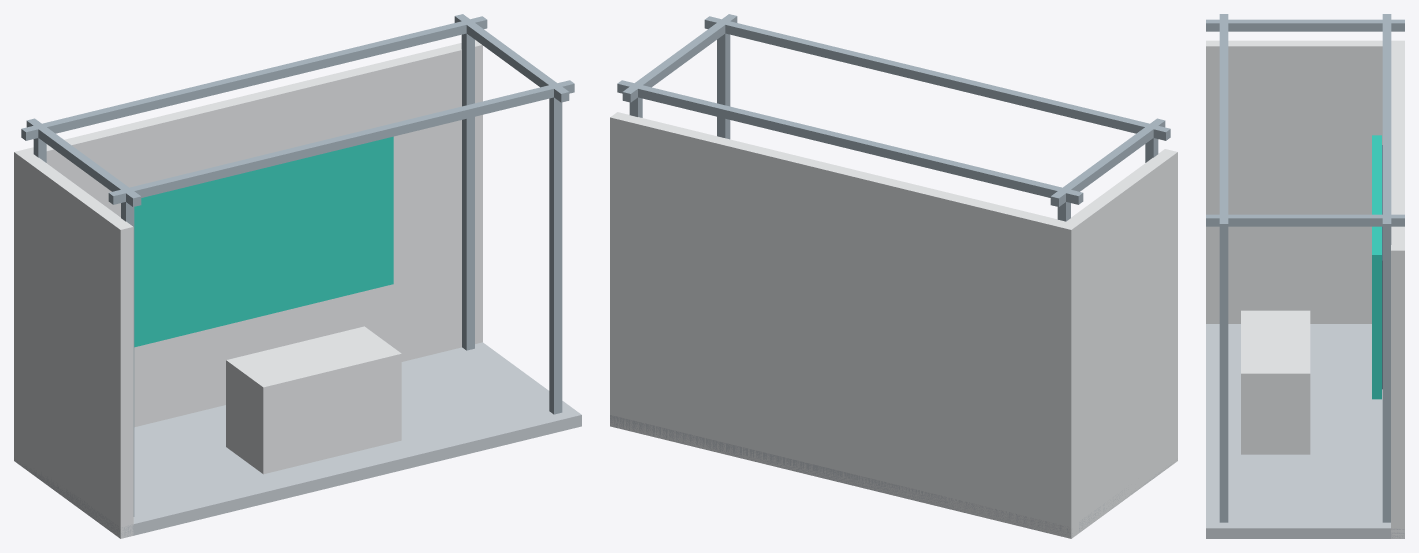
3 renders of one model, left to right at view 1: azimuth 30°, elevation 25°; view 2: azimuth 150°, elevation 25°; view 3: azimuth 270°, elevation 25°, orthographic. The views are drawn at different scales.
Visible parts, largest first — view 1: Exhibition Booth Concept; view 2: Exhibition Booth Concept; view 3: Exhibition Booth Concept.
Boxes of the visible parts, box(x1,y1,x2,y2) form: Exhibition Booth Concept: box(14, 14, 581, 538); Exhibition Booth Concept: box(610, 14, 1177, 538); Exhibition Booth Concept: box(1206, 14, 1404, 538).
Size of the model in its own units: 5 by 3.49 by 2.
